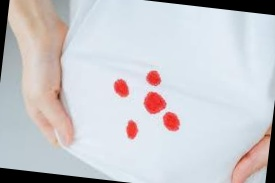blood: (142, 92, 168, 116), (162, 112, 181, 133), (112, 77, 131, 98), (125, 120, 140, 140), (145, 70, 162, 87)
